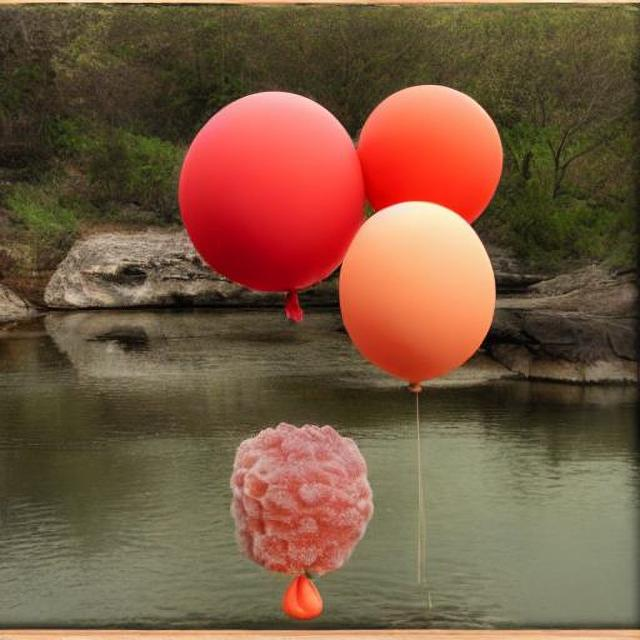balloon: (169, 78, 497, 336), (322, 112, 505, 386)
